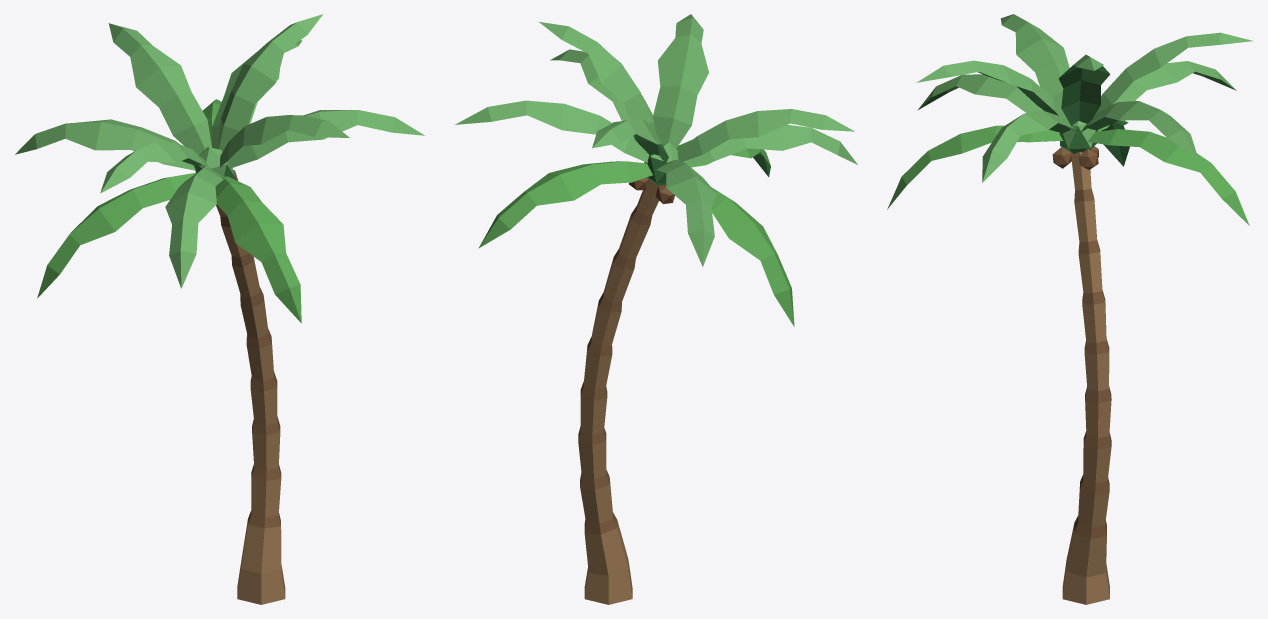
Rendered from palm_b.glb.
The picture shows the model from 3 angles, left to right: view 1: azimuth 30°, elevation 25°; view 2: azimuth 150°, elevation 25°; view 3: azimuth 270°, elevation 25°; orthographic projection.
Visible parts, largest first — view 1: palm_b; view 2: palm_b; view 3: palm_b.
Boxes of the visible parts, box(x1,y1,x2,y2) form: palm_b: box(15, 14, 424, 604); palm_b: box(455, 14, 857, 604); palm_b: box(887, 14, 1252, 604).
Size of the model in its own units: 4.85 by 8.19 by 4.91.
